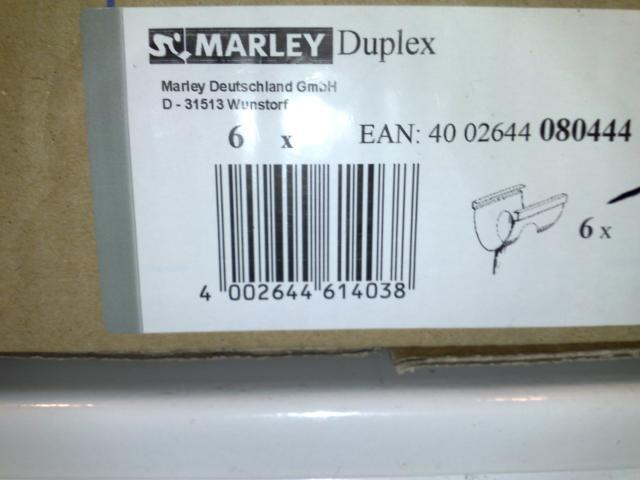Barcode: (182, 154, 447, 322)
